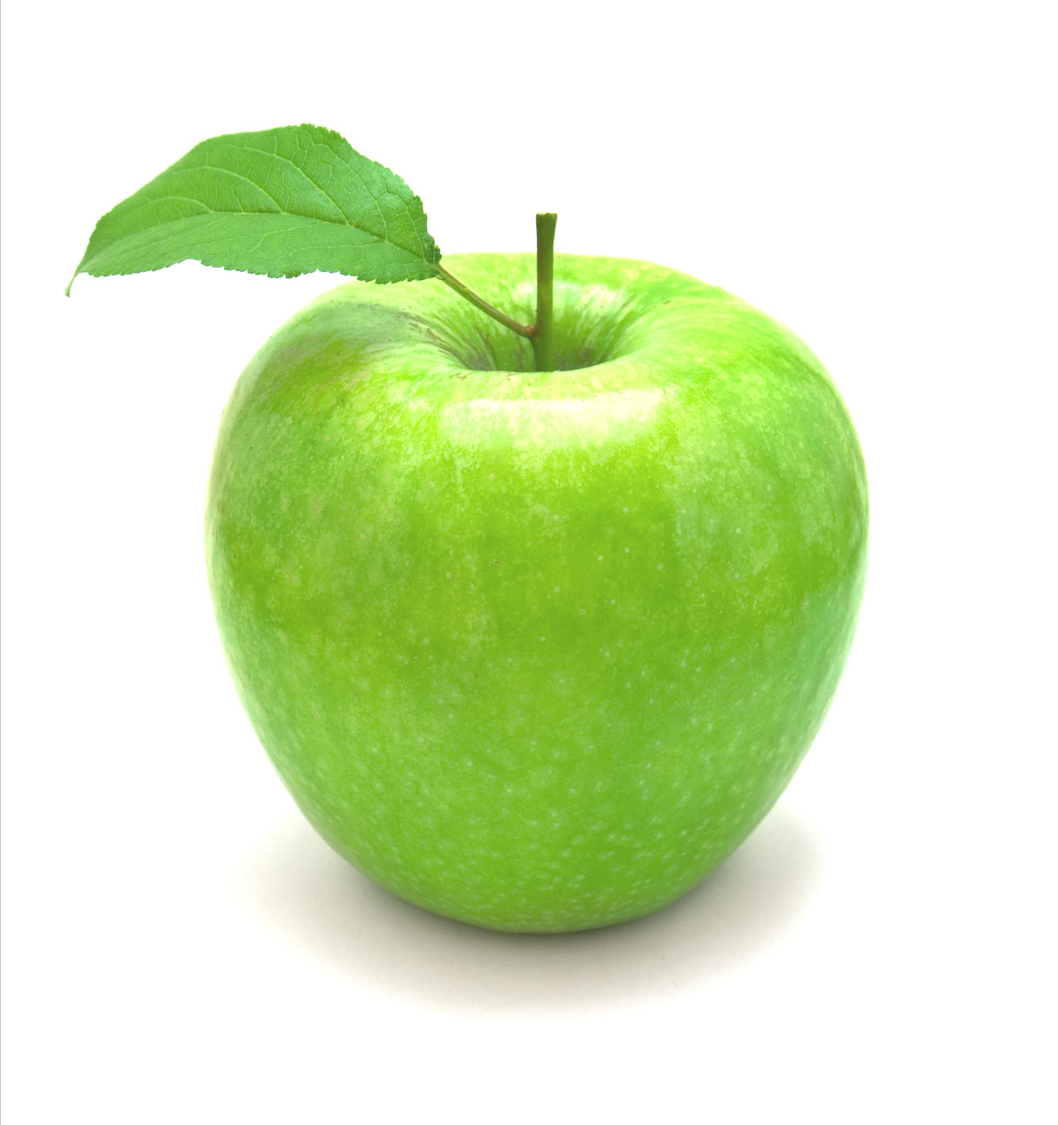Apple Ripe: (178, 140, 889, 961)
